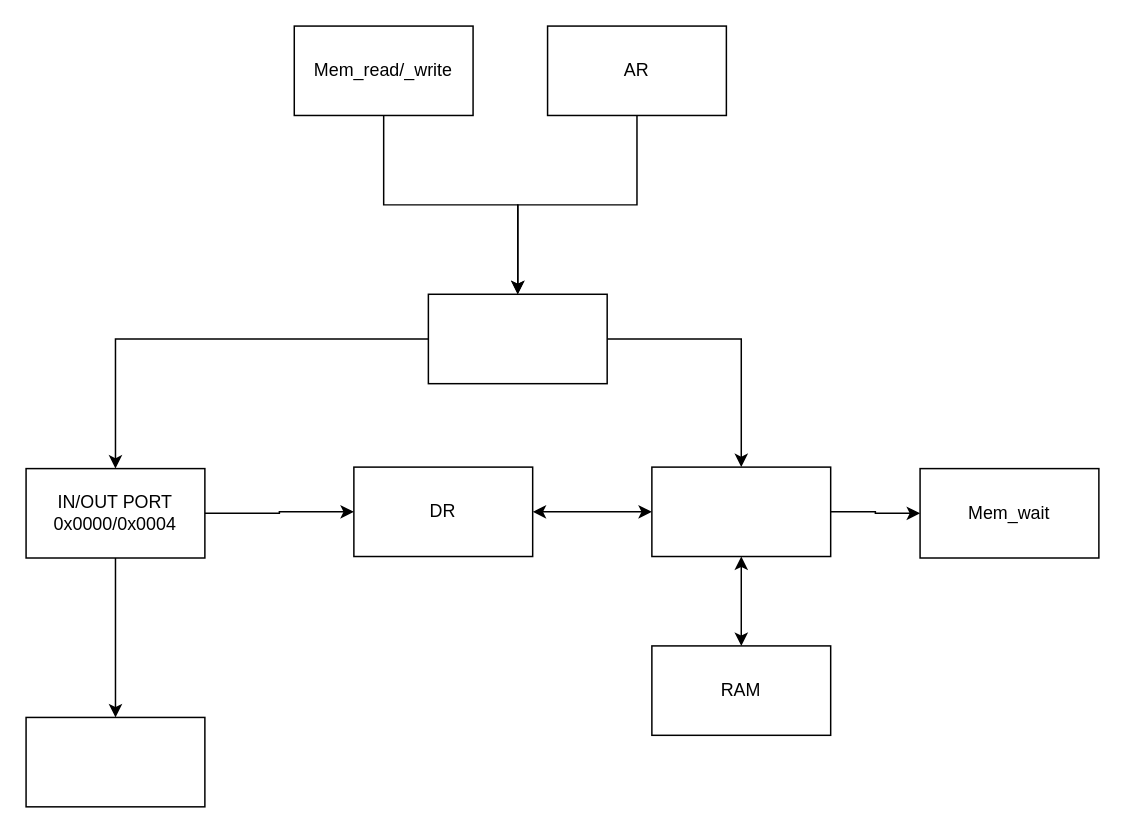
The diagram is 1125 pixels wide and 833 high, and some of its shapes have lost their labels. The shapes that lost their labels are listed below. From the top down, each one's centre as x and y in pixels, then its label:
At (x=517, y=338): "Address decoder".
At (x=740, y=511): "L1 Cache".
At (x=115, y=761): "BUFFERS".
